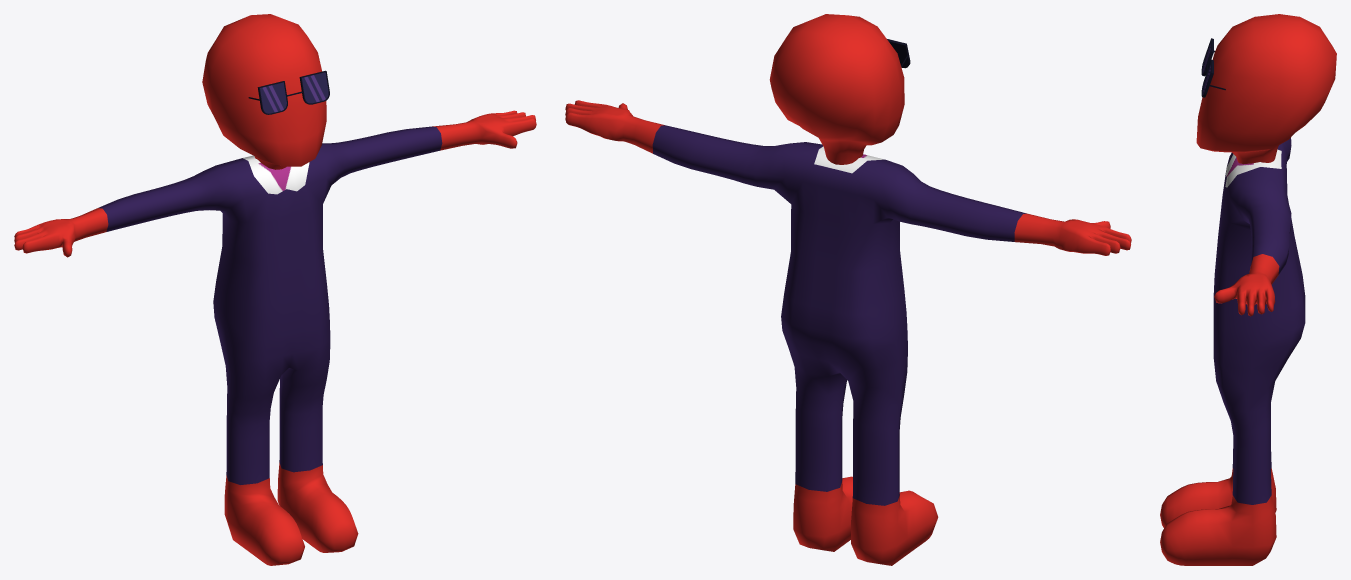
File: Karakter2.fbx
3 renders of one model, left to right at view 1: azimuth 30°, elevation 25°; view 2: azimuth 150°, elevation 25°; view 3: azimuth 270°, elevation 25°, orthographic. The views are drawn at different scales.
Visible parts, largest first — view 1: Karakter2; view 2: Karakter2; view 3: Karakter2.
Boxes of the visible parts, box(x1,y1,x2,y2) form: Karakter2: box(14, 14, 536, 565); Karakter2: box(565, 14, 1131, 565); Karakter2: box(1160, 14, 1336, 565).
Bounding box in the file's own units: 220 × 202 × 61.51.
